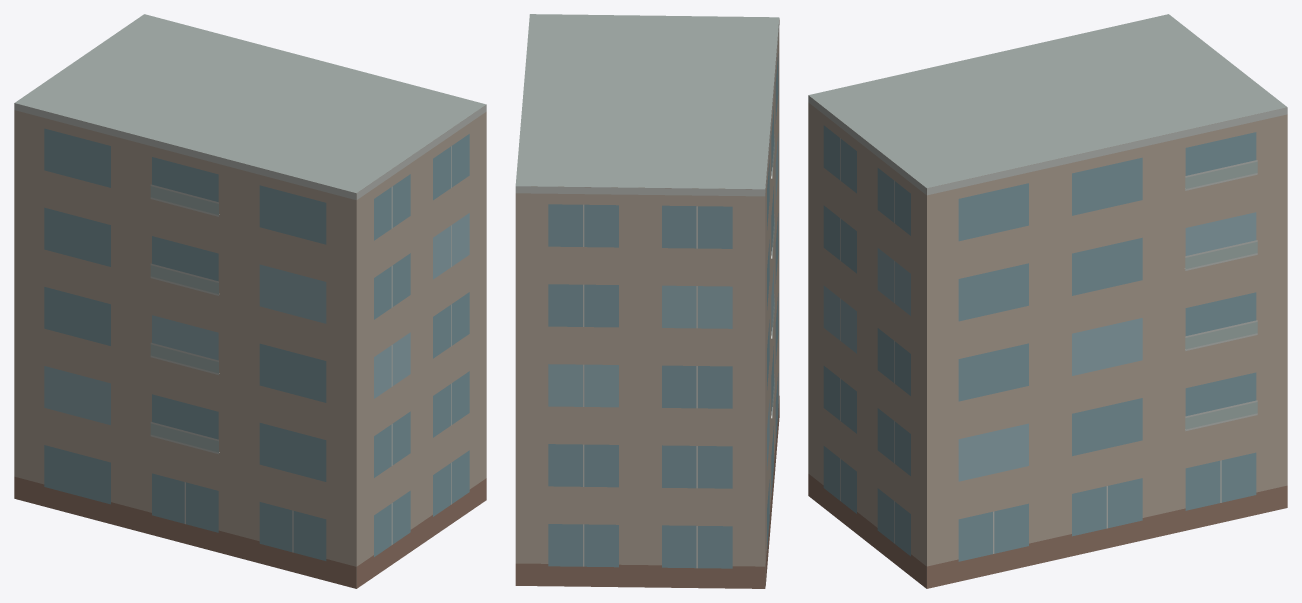
File: survey-upis-32884343.glb
3 views of the same model, side by side, from view 1: azimuth 30°, elevation 25°; view 2: azimuth 150°, elevation 25°; view 3: azimuth 270°, elevation 25° (orthographic).
Visible parts, largest first — view 1: survey-upis-32884343.tmp; view 2: survey-upis-32884343.tmp; view 3: survey-upis-32884343.tmp.
Boxes of the visible parts, x1,y1,x2,y2 form: survey-upis-32884343.tmp: (14,14,486,588); survey-upis-32884343.tmp: (515,14,779,588); survey-upis-32884343.tmp: (808,14,1287,588).
Size of the model in its own units: 12.79 by 13.7 by 14.87.
